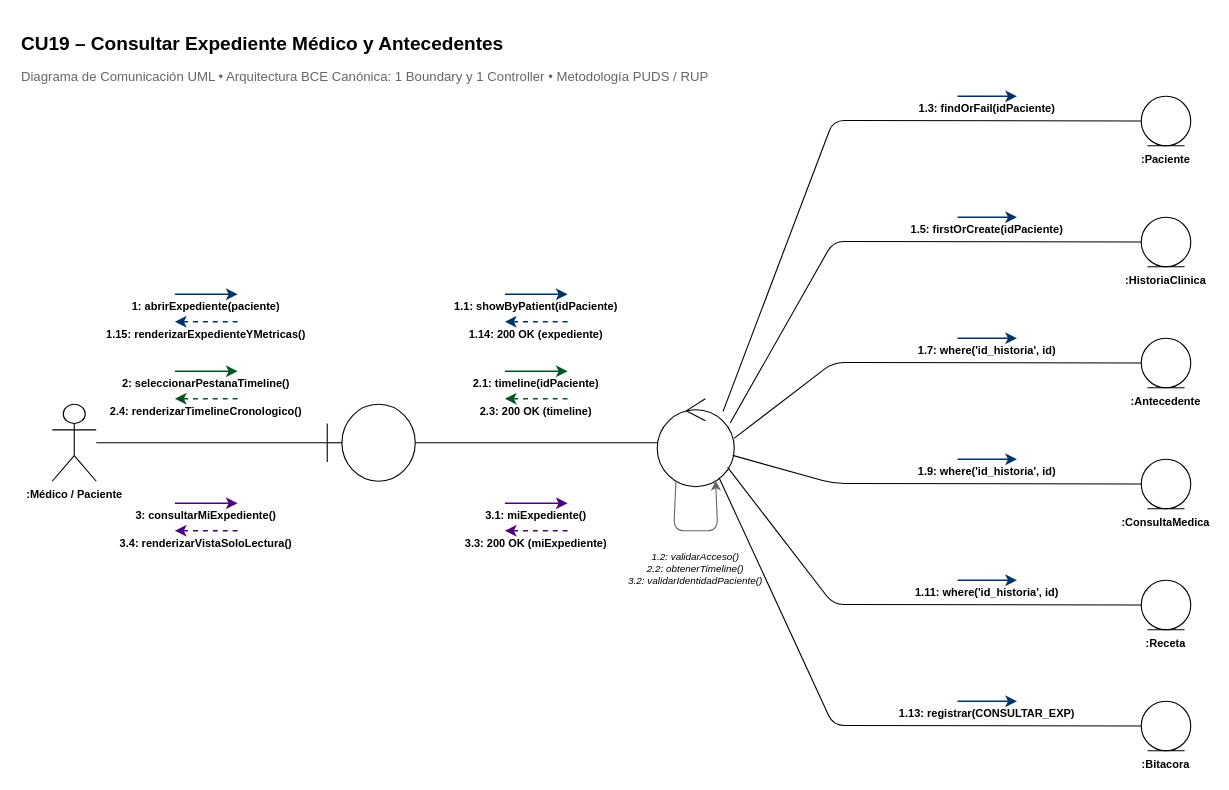
Image size: 1229x790. Some labels were removed from this diagram. Each missing label, with the centre of its shape:
:ExpedienteClinicoView: the point at 370,442
:ExpedienteController: the point at 695,442
